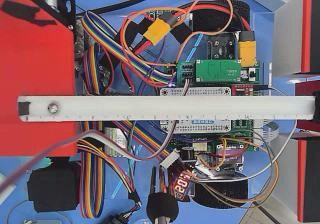ironball: (45, 101, 58, 114)
